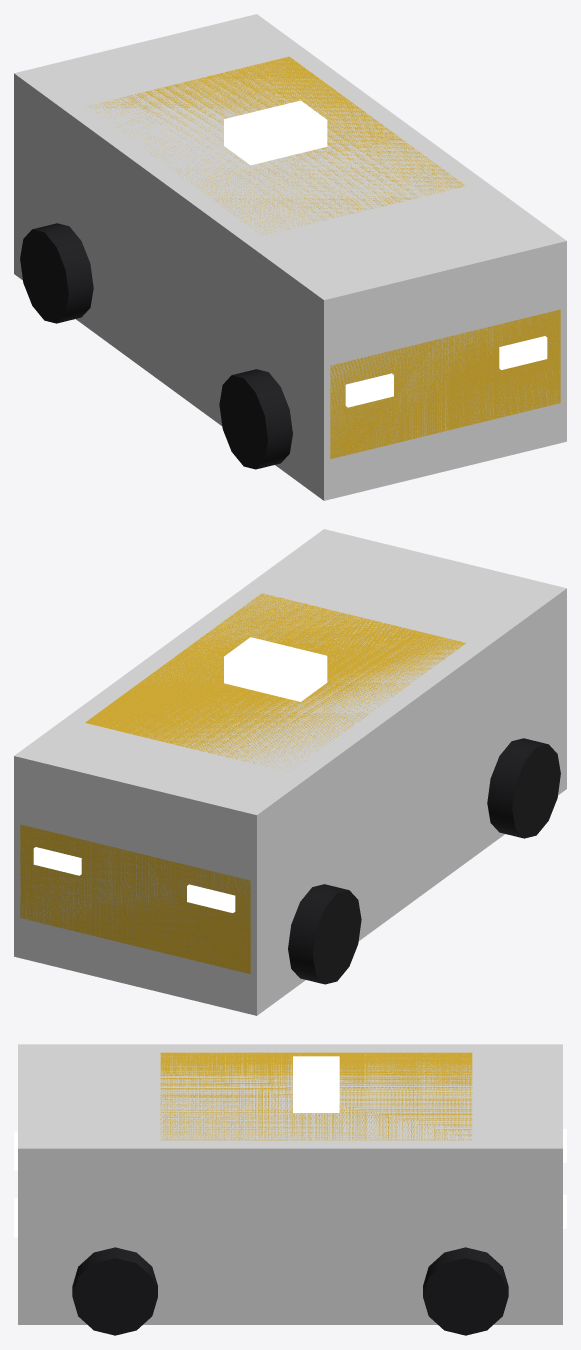
The model's file is taxi.glb.
3 renders of one model, top to bottom at view 1: azimuth 30°, elevation 25°; view 2: azimuth 150°, elevation 25°; view 3: azimuth 270°, elevation 25°, orthographic. The views are drawn at different scales.
Visible parts, largest first — view 1: COL_0, taxi_Malla; view 2: COL_0, taxi_Malla; view 3: COL_0, taxi_Malla.
Part boxes in pixels (x1,y1,x2,y2): COL_0: [14, 14, 566, 500]; taxi_Malla: [20, 56, 560, 469]; COL_0: [14, 529, 566, 1015]; taxi_Malla: [20, 593, 560, 984]; COL_0: [18, 1044, 562, 1324]; taxi_Malla: [14, 1052, 566, 1335].
Size of the model in its own units: 2.29 by 1.7 by 4.26.
